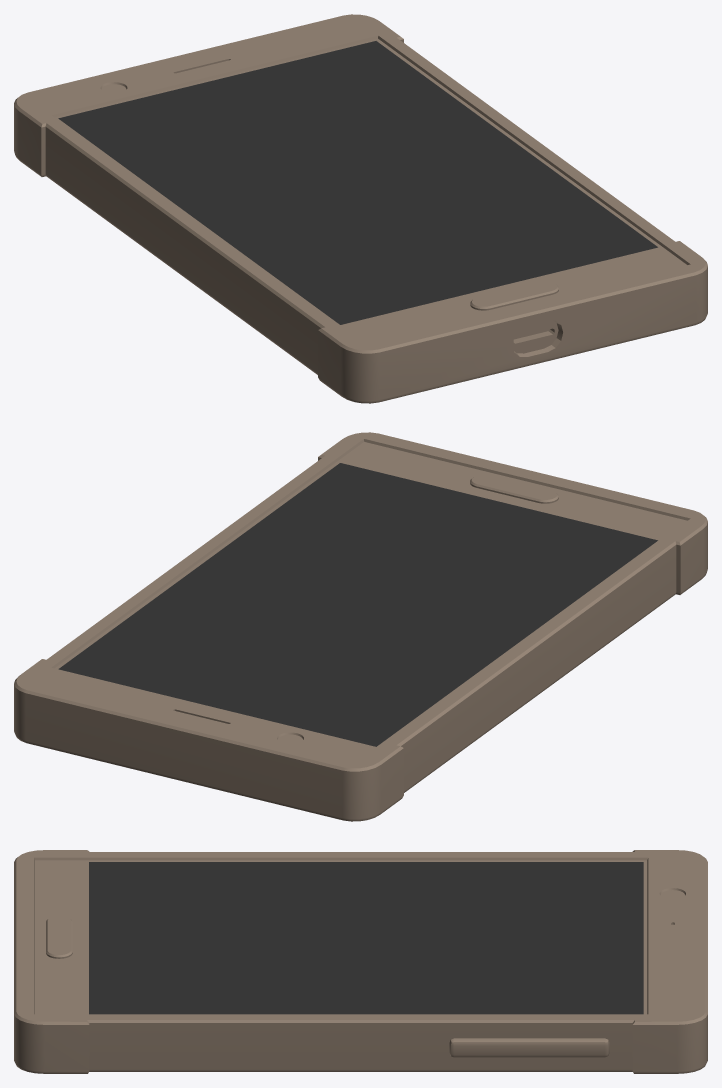
Rendered from cop_phone.fbx.
The picture shows the model from 3 angles, top to bottom: view 1: azimuth 30°, elevation 25°; view 2: azimuth 150°, elevation 25°; view 3: azimuth 270°, elevation 25°; orthographic projection.
Visible parts, largest first — view 1: phone; view 2: phone; view 3: phone.
Boxes of the visible parts, x1=… form: phone: x1=14, y1=14, x2=707, y2=403; phone: x1=14, y1=432, x2=707, y2=821; phone: x1=14, y1=850, x2=707, y2=1073.
Bounding box in the file's own units: 5.57 × 0.794 × 9.33.
